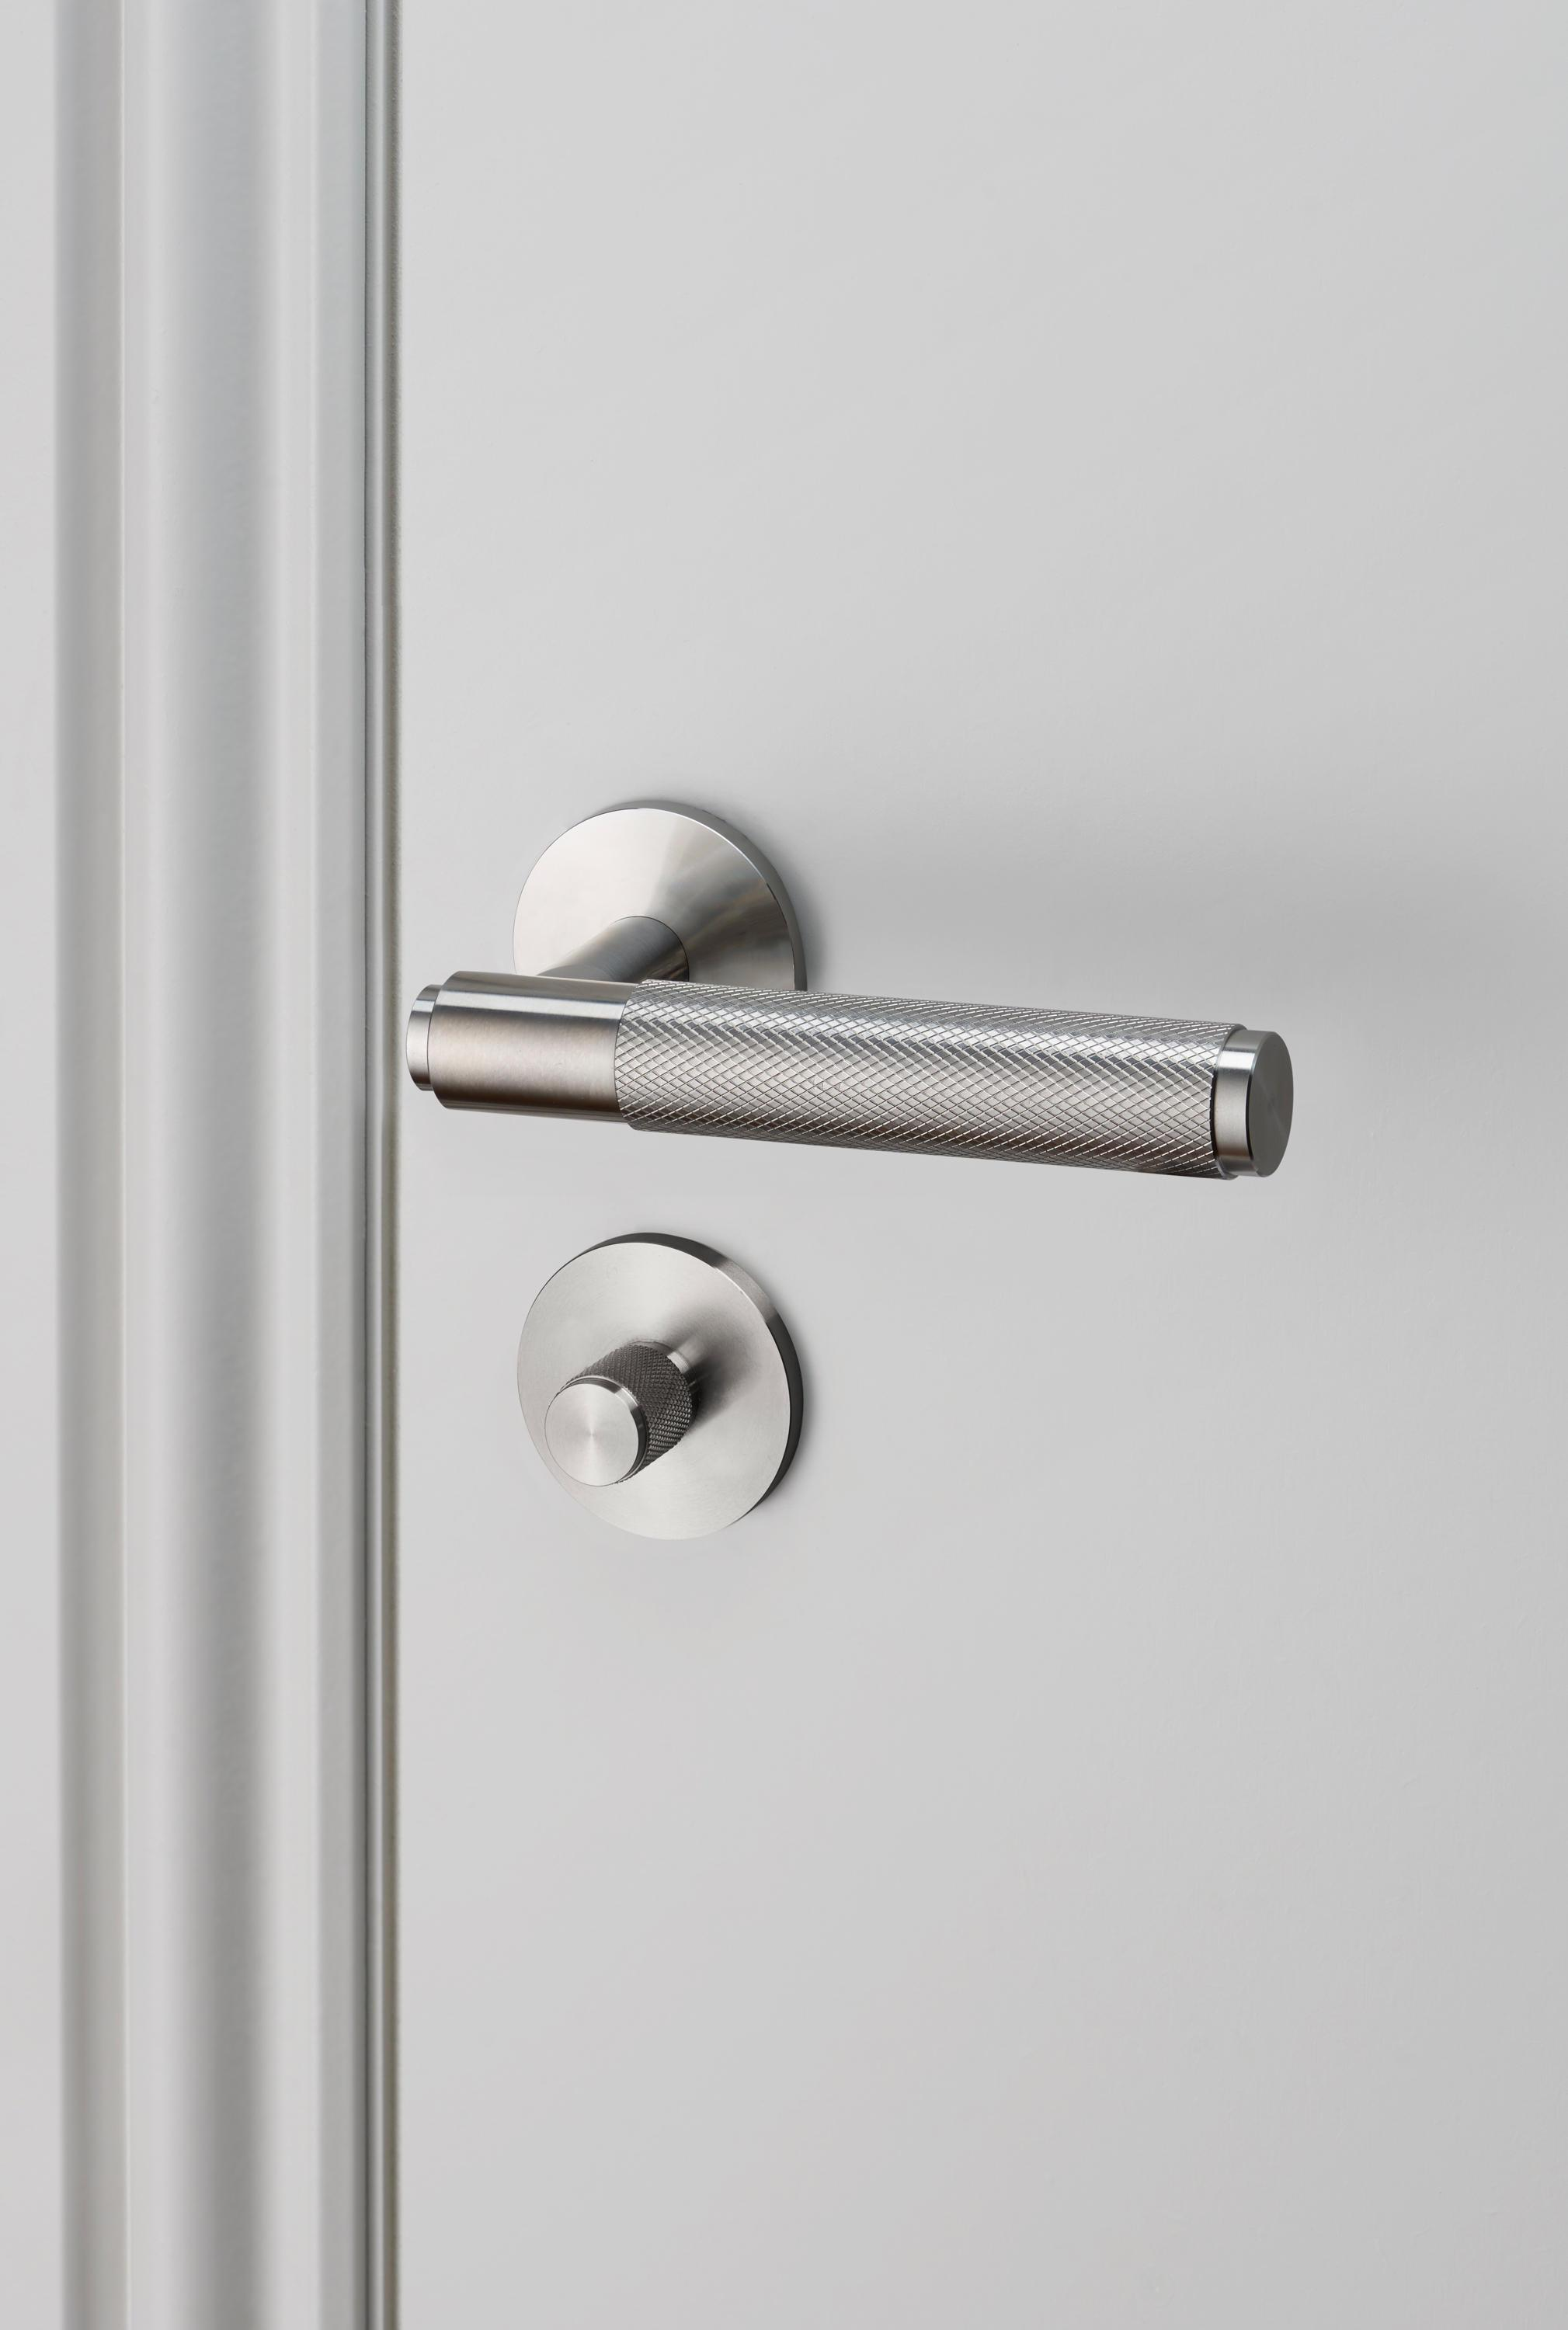doorhandle: (327, 852, 1439, 1249)
